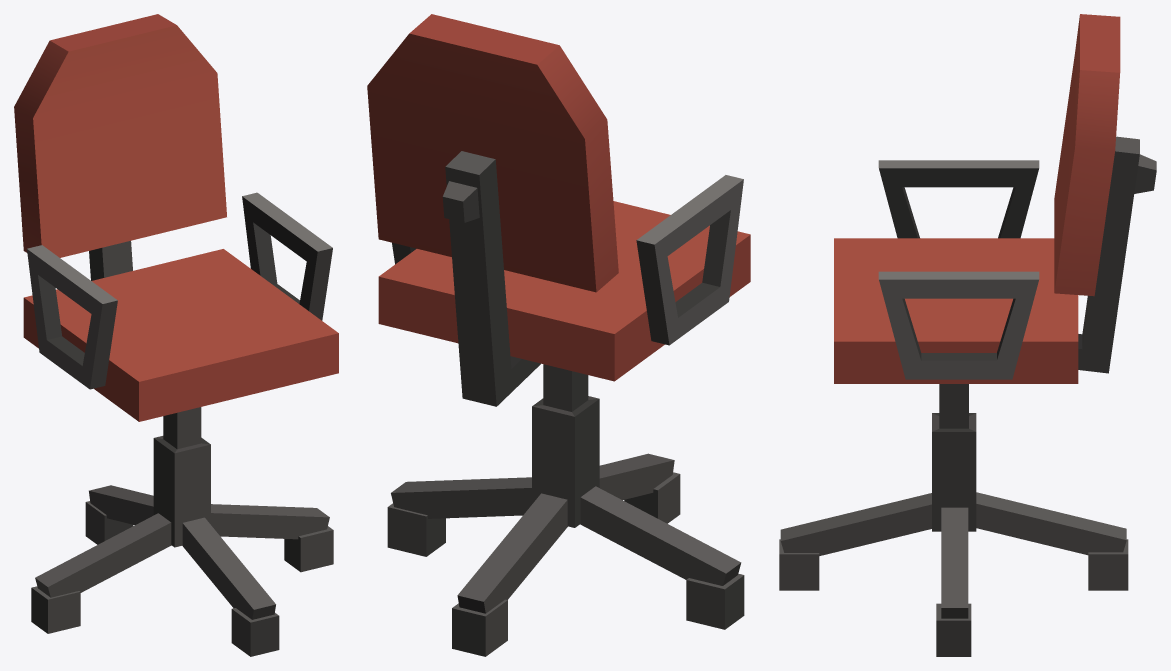
The model's file is SO_Chair03.fbx.
3 renders of one model, left to right at view 1: azimuth 30°, elevation 25°; view 2: azimuth 150°, elevation 25°; view 3: azimuth 270°, elevation 25°, orthographic. The views are drawn at different scales.
Parts seen in each view (by area): view 1: SO_Chair03; view 2: SO_Chair03; view 3: SO_Chair03.
Part boxes in pixels (x1,y1,x2,y2): SO_Chair03: (14, 14, 338, 656); SO_Chair03: (367, 14, 750, 656); SO_Chair03: (779, 14, 1156, 656).
Bounding box in the file's own units: 1.24 × 2.12 × 1.34.
